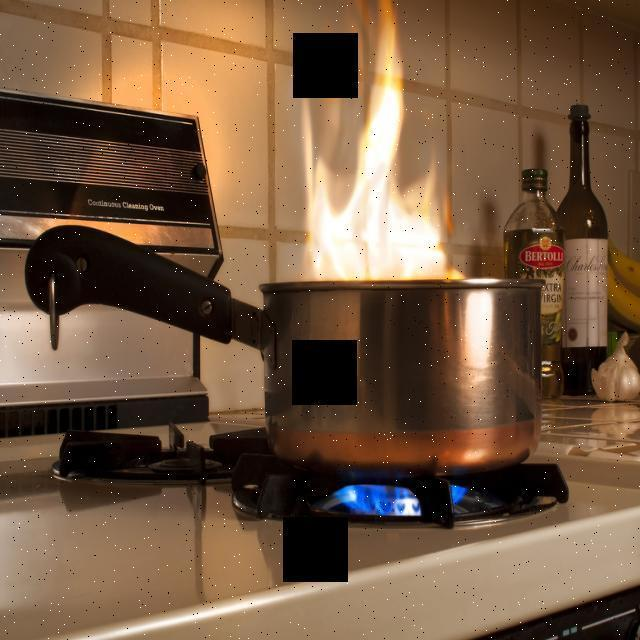Flame: (327, 475, 482, 515)
Pan: (198, 256, 564, 488)
